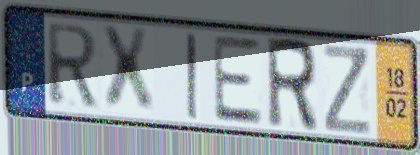E: (210, 32, 265, 128)
I: (183, 30, 202, 123)
R: (264, 35, 321, 136), (44, 21, 101, 110)
X: (97, 24, 158, 117)
Z: (320, 41, 375, 138)
